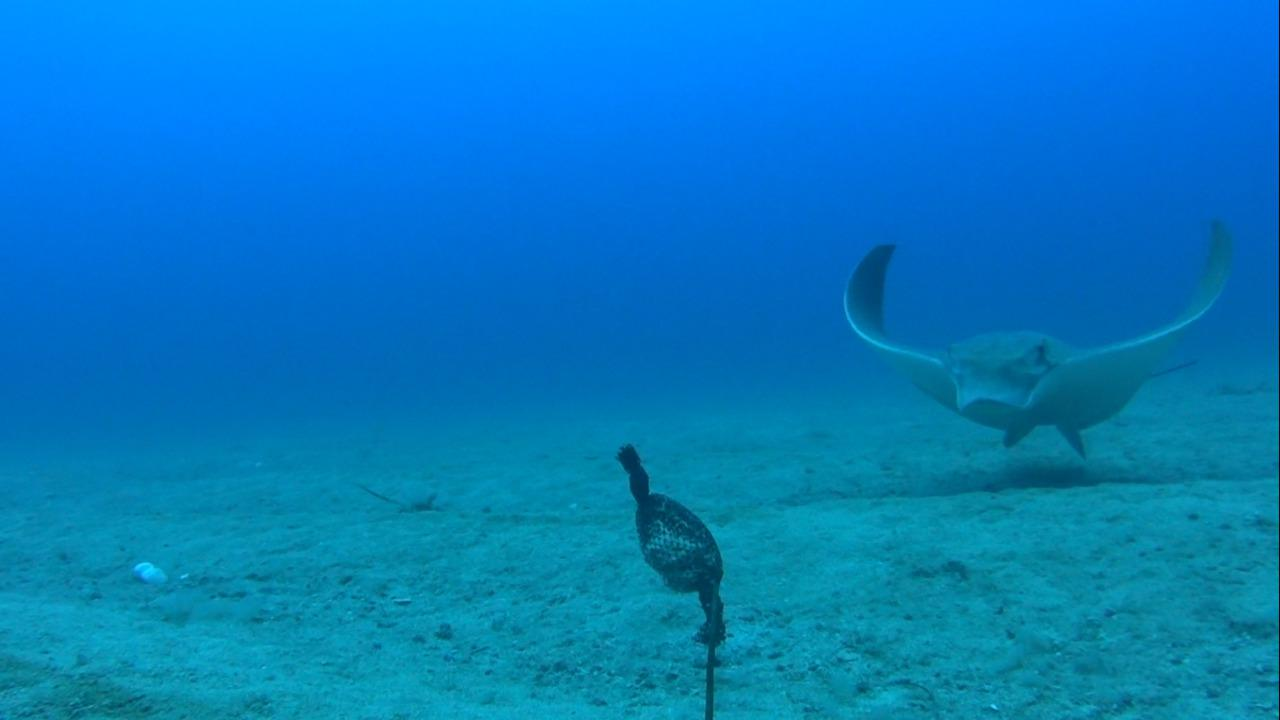myliobatis: (828, 211, 1242, 463)
